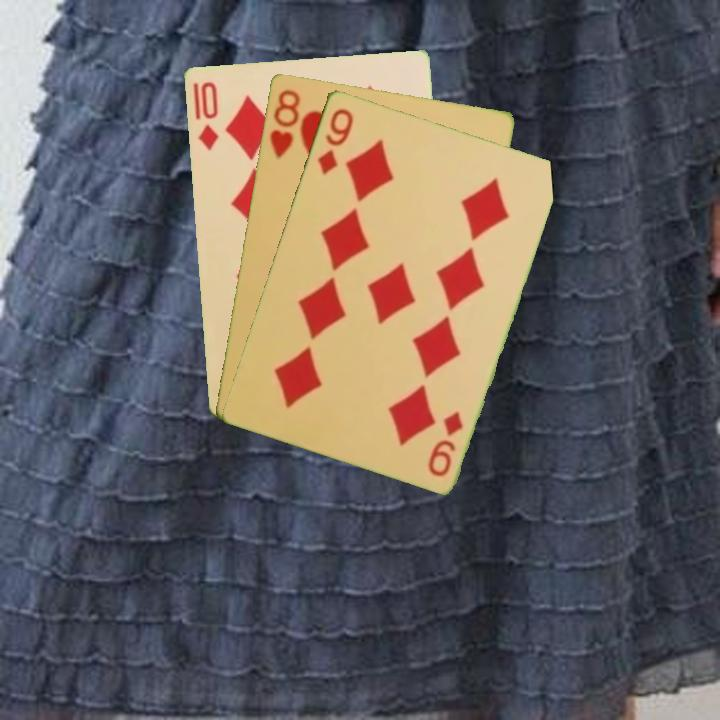10d: (194, 77, 221, 153)
8h: (266, 85, 303, 162)
9d: (313, 104, 356, 177), (424, 407, 466, 479)
